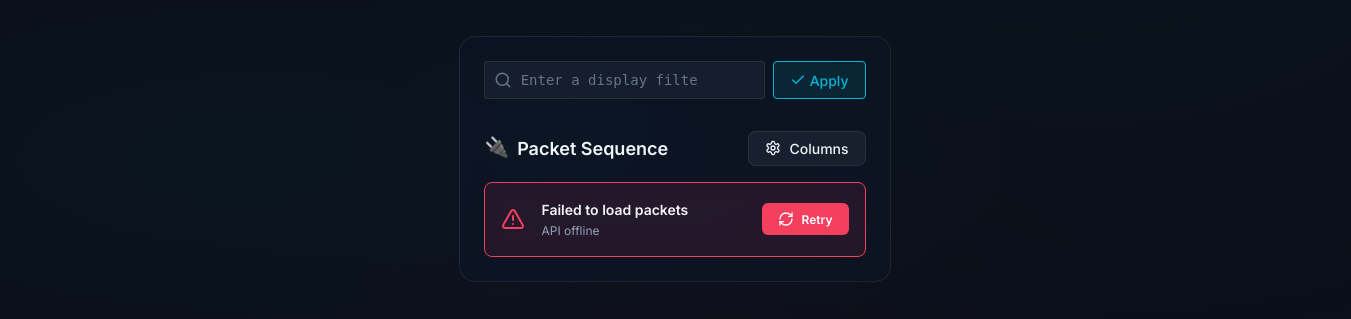
Test case: FramesTable › renders error banner when API fails and re-fetches on retry
Expected: the element with class "frames-error-banner" is shown, x1=484 y1=182 x2=866 y2=257
Expected: the text with class "error-banner-message" reads "API offline", x1=541 y1=223 x2=600 y2=238
Click the button with class "retry-btn" at (805, 219), box x1=762 y1=203 x2=848 y2=235
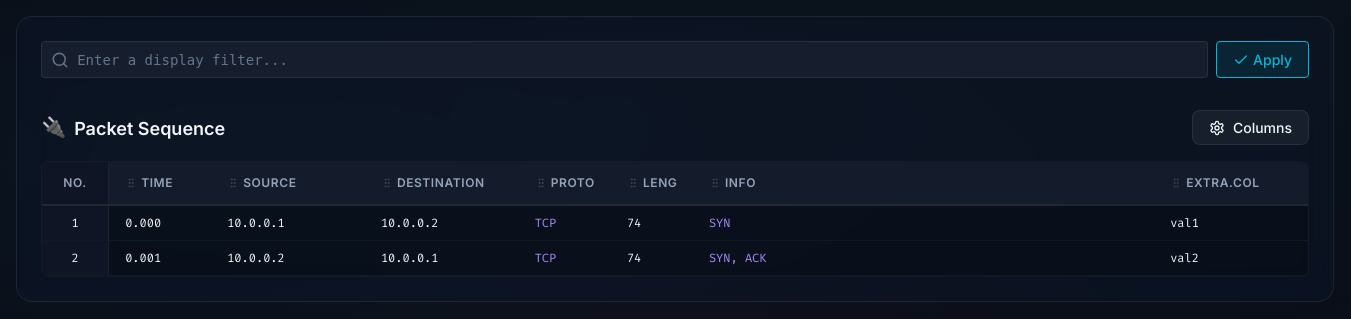
Result: the number of rows with class "table-row" is 2 at x1=42 y1=205 x2=1308 y2=241; x1=42 y1=241 x2=1308 y2=276
